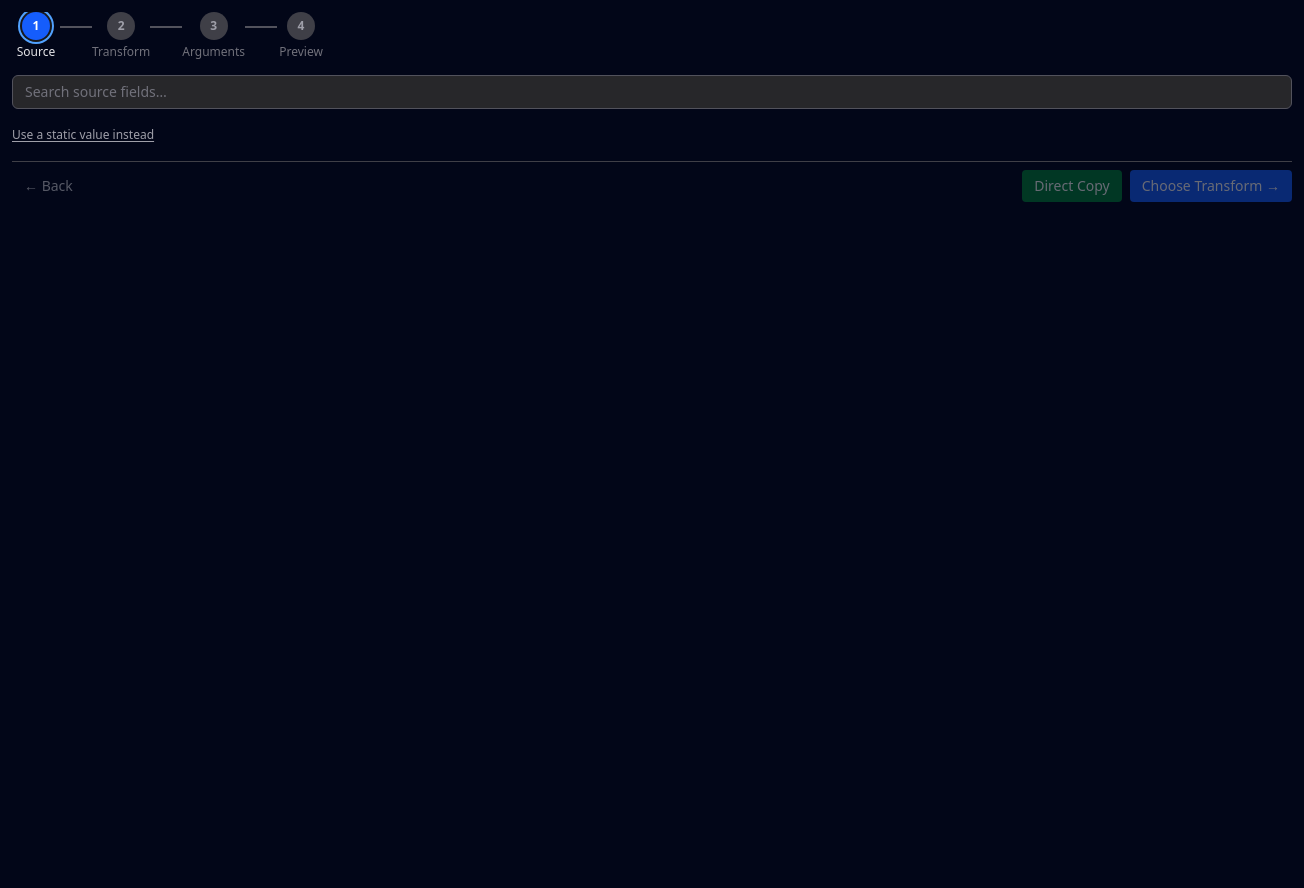
Test: GuidedBuilder › Choose Transform advances to step 2
Click the dropdown labelled "Search source fields" at coordinates (652, 92), box [12,75,1292,109]
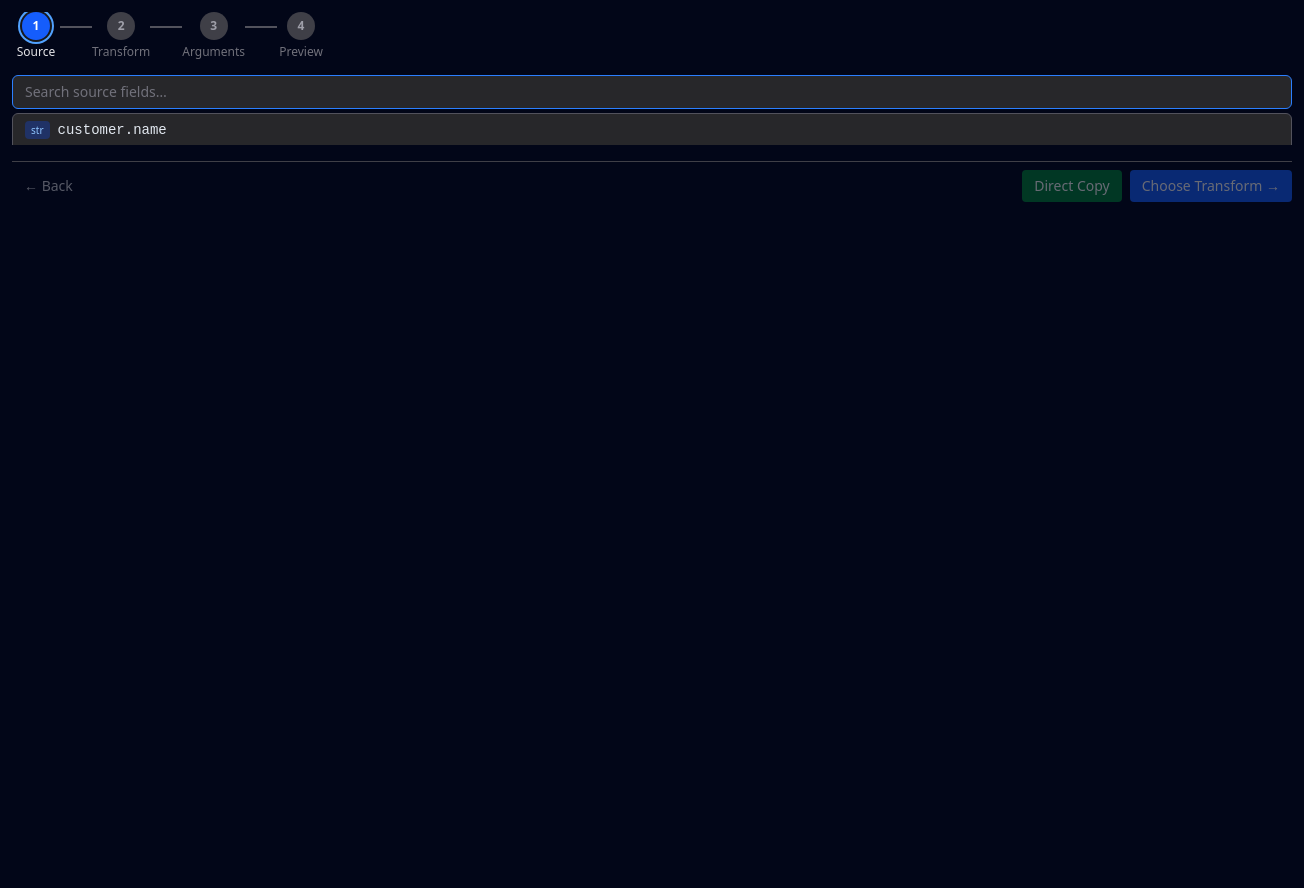
Click the text "customer.name" at coordinates (112, 130), box [58,120,167,140]
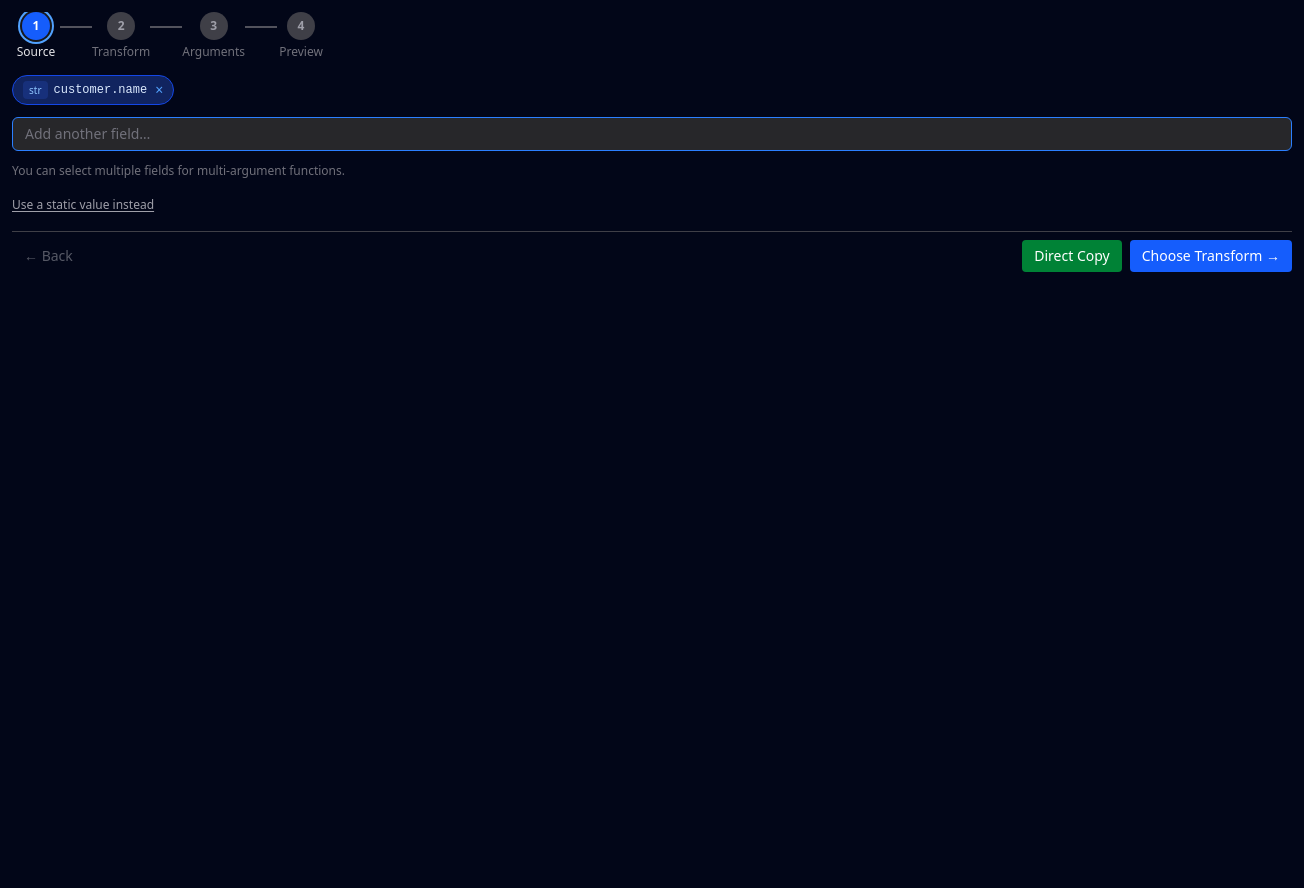
Click the button "Choose Transform →" at coordinates (1211, 256), box [1130,240,1292,272]
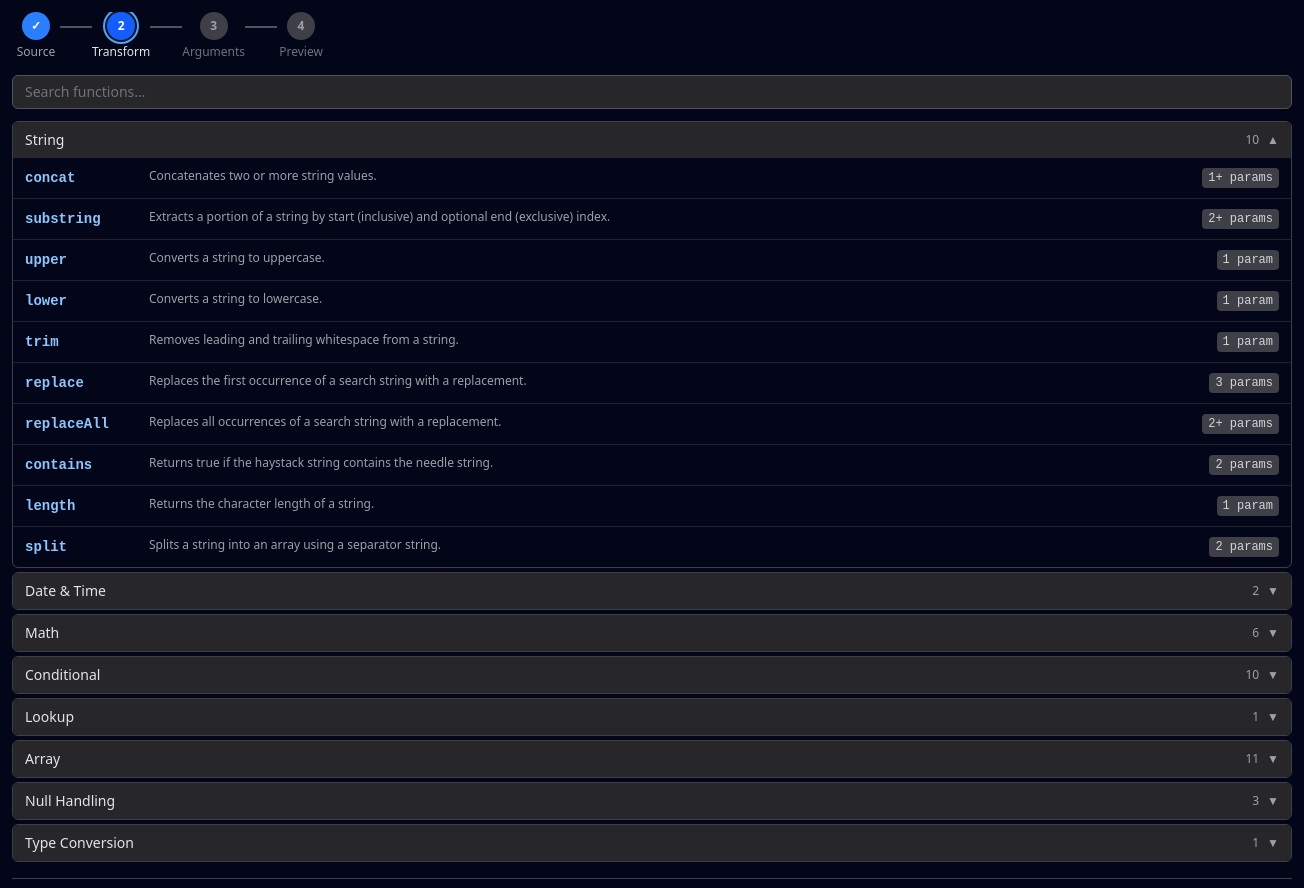
Result: the element with test id "step-2" is shown
